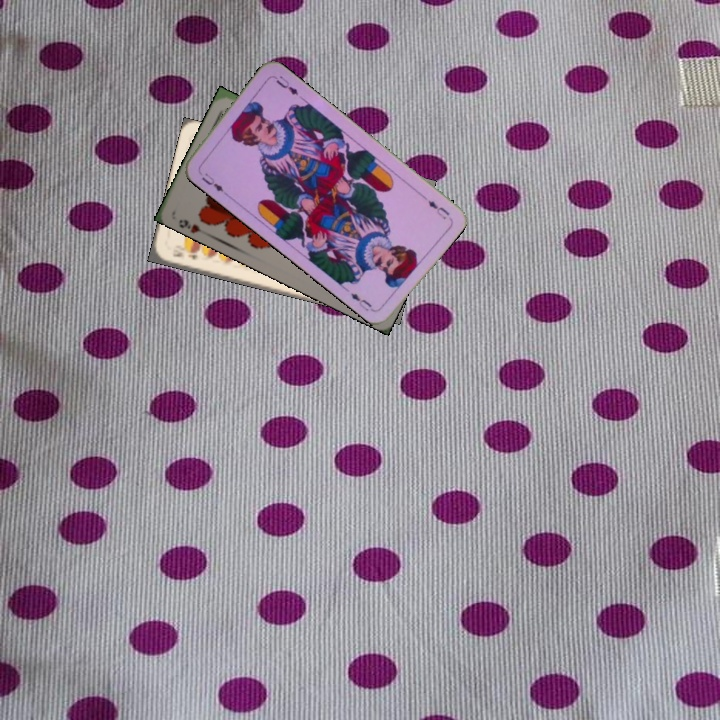E10: (168, 243, 200, 262)
EU: (418, 191, 452, 222), (198, 169, 229, 198)
H9: (174, 215, 203, 235)
